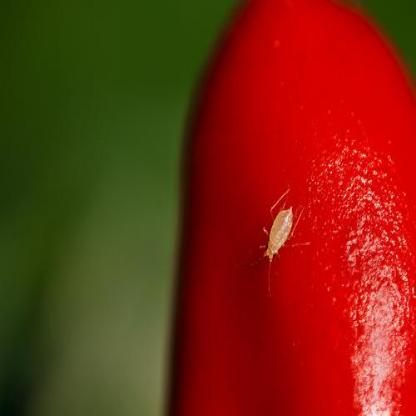aphid: (256, 190, 300, 276)
